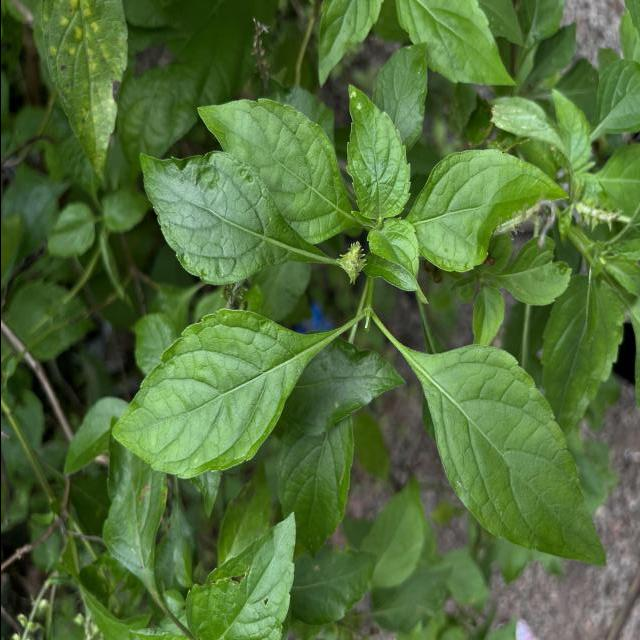Ocimum gratissimum: (387, 339, 610, 572), (106, 306, 370, 482), (134, 146, 338, 291), (192, 93, 361, 243), (410, 146, 572, 277), (180, 506, 301, 640), (338, 80, 412, 219)
